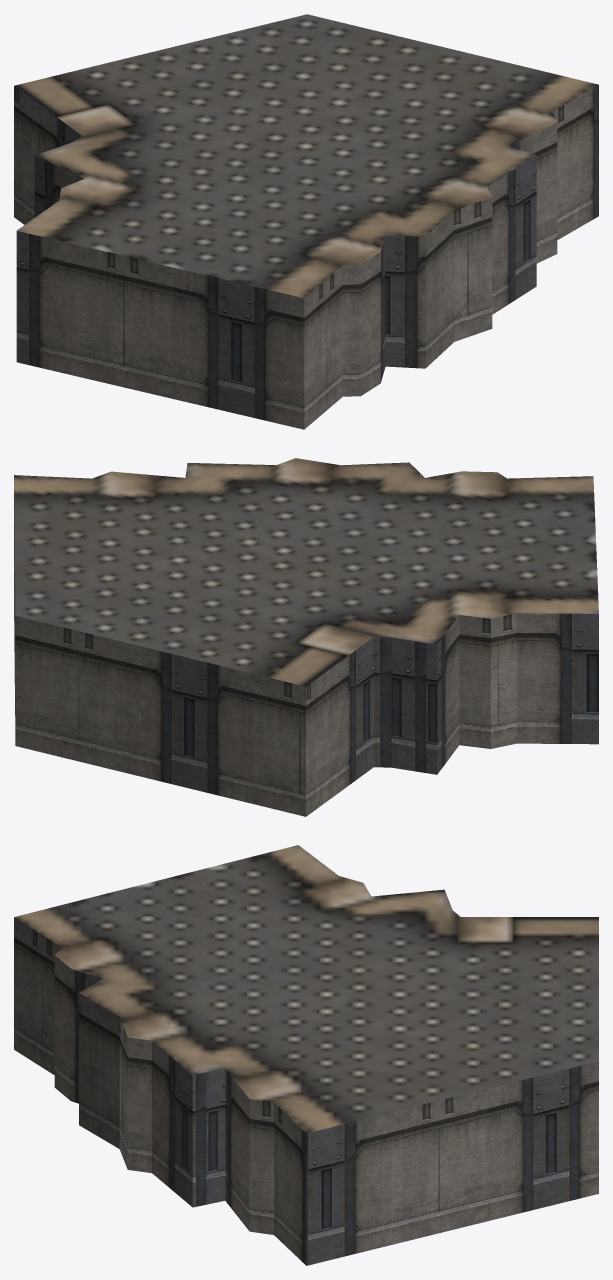
File: building_heavy_a_19.glb
3 renders of one model, top to bottom at view 1: azimuth 30°, elevation 25°; view 2: azimuth 150°, elevation 25°; view 3: azimuth 270°, elevation 25°, orthographic.
Parts seen in each view (by area): view 1: buildings/saxarba/building_heavy/building_heavy_a_19; view 2: buildings/saxarba/building_heavy/building_heavy_a_19; view 3: buildings/saxarba/building_heavy/building_heavy_a_19.
Boxes of the visible parts, box(x1,y1,x2,y2) form: buildings/saxarba/building_heavy/building_heavy_a_19: box(14, 14, 598, 429); buildings/saxarba/building_heavy/building_heavy_a_19: box(14, 458, 598, 816); buildings/saxarba/building_heavy/building_heavy_a_19: box(14, 845, 598, 1265).
Size of the model in its own units: 84 by 18 by 72.
